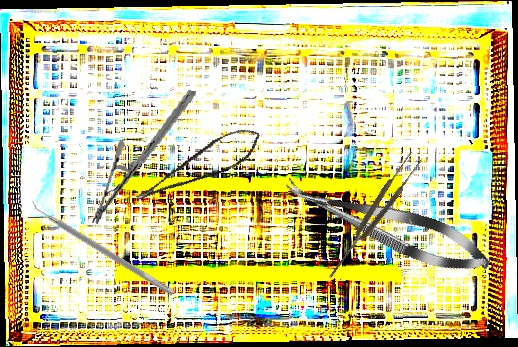Micro Scissor: (278, 165, 497, 285), (126, 122, 268, 205)
Needle Holder: (90, 79, 197, 235)
Spatula Surgical: (27, 197, 179, 297)
Tissue Forceps: (321, 150, 425, 283)
